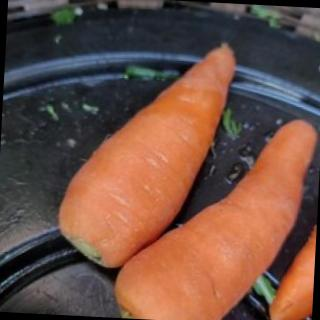Wortel: (55, 35, 241, 277), (112, 110, 320, 320)
